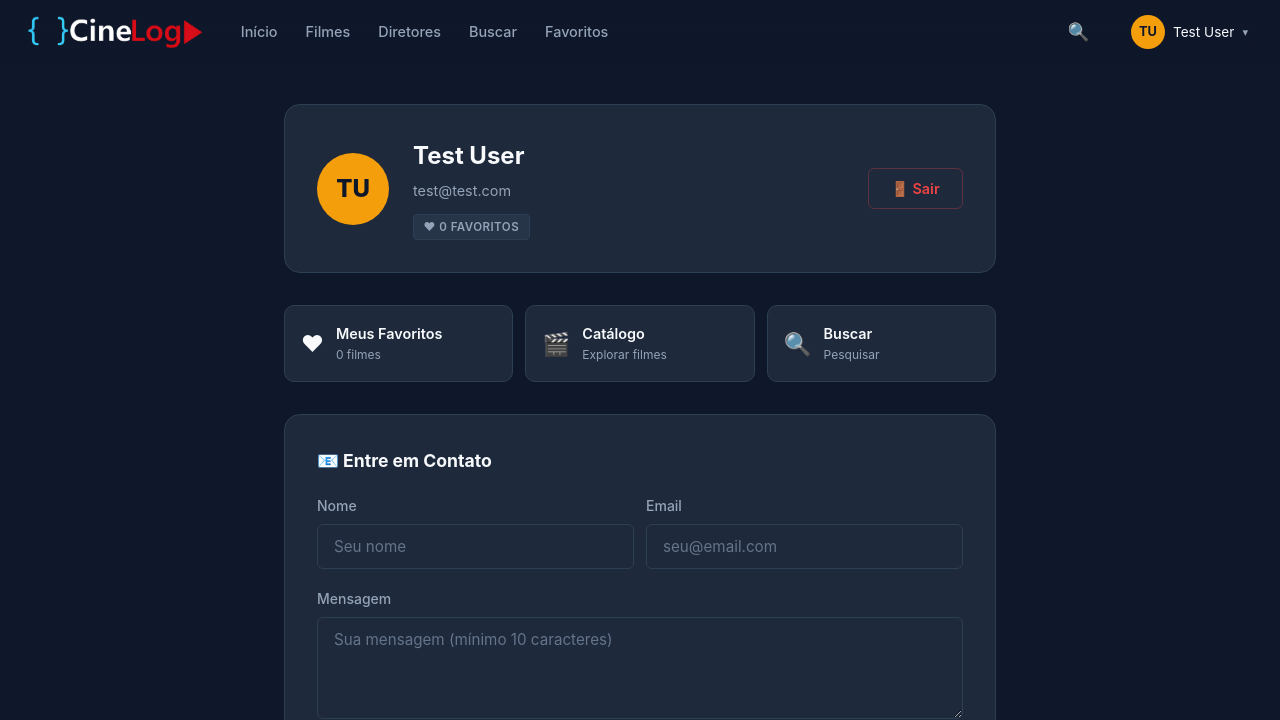
Test: Página de Contato (Perfil) › deve enviar formulário de contato válido
Type "Test User" into the field with placeholder "Seu nome".
click(476, 547); type("Test User")  # box [317,524,634,569]
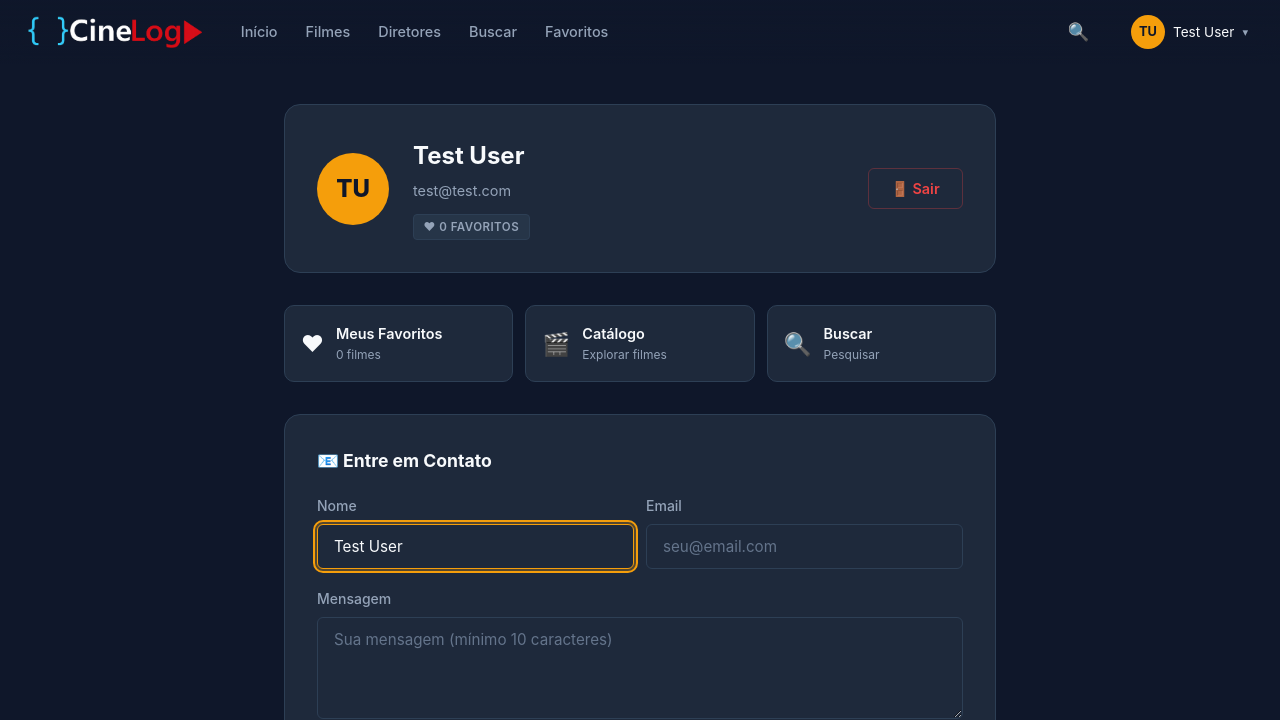
Type "test@email.com" into the field with placeholder "seu@email.com".
click(805, 547); type("test@email.com")  # box [646,524,963,569]
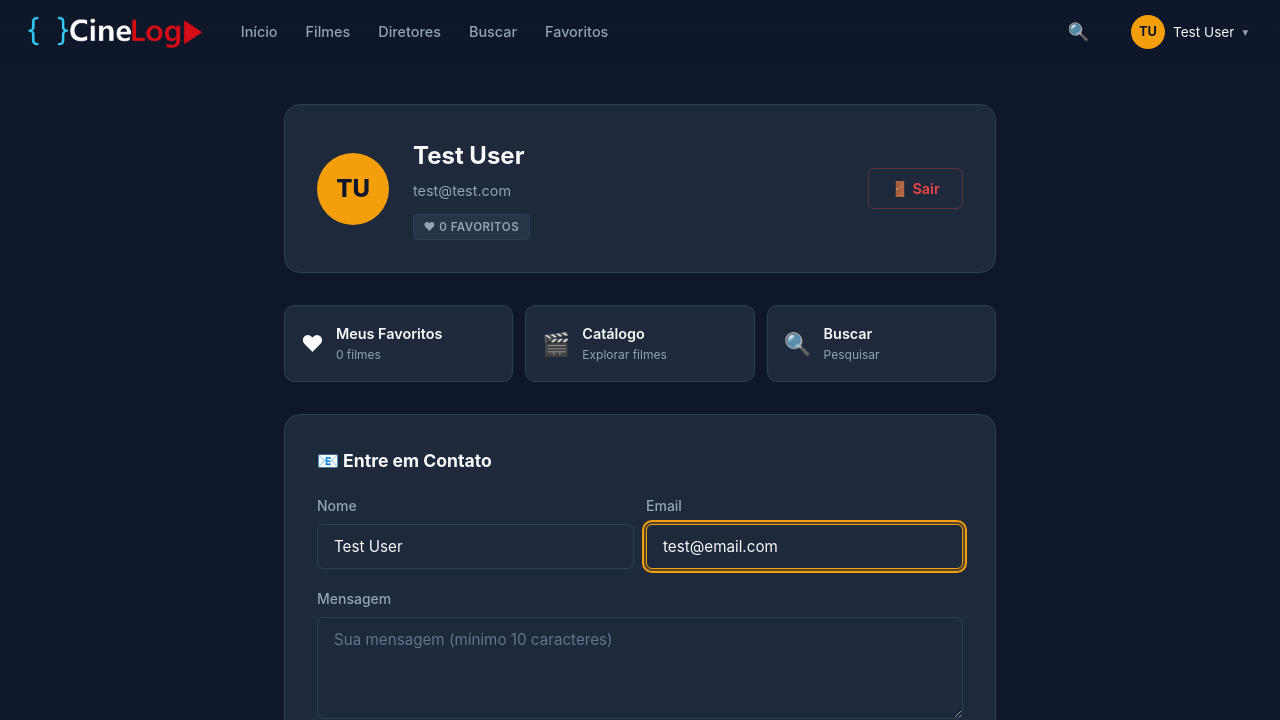
Type "Mensagem de teste E2E" into the text box with placeholder "Sua mensagem (mínimo 10 caracteres)".
click(640, 668); type("Mensagem de teste E2E")  # box [317,617,963,719]
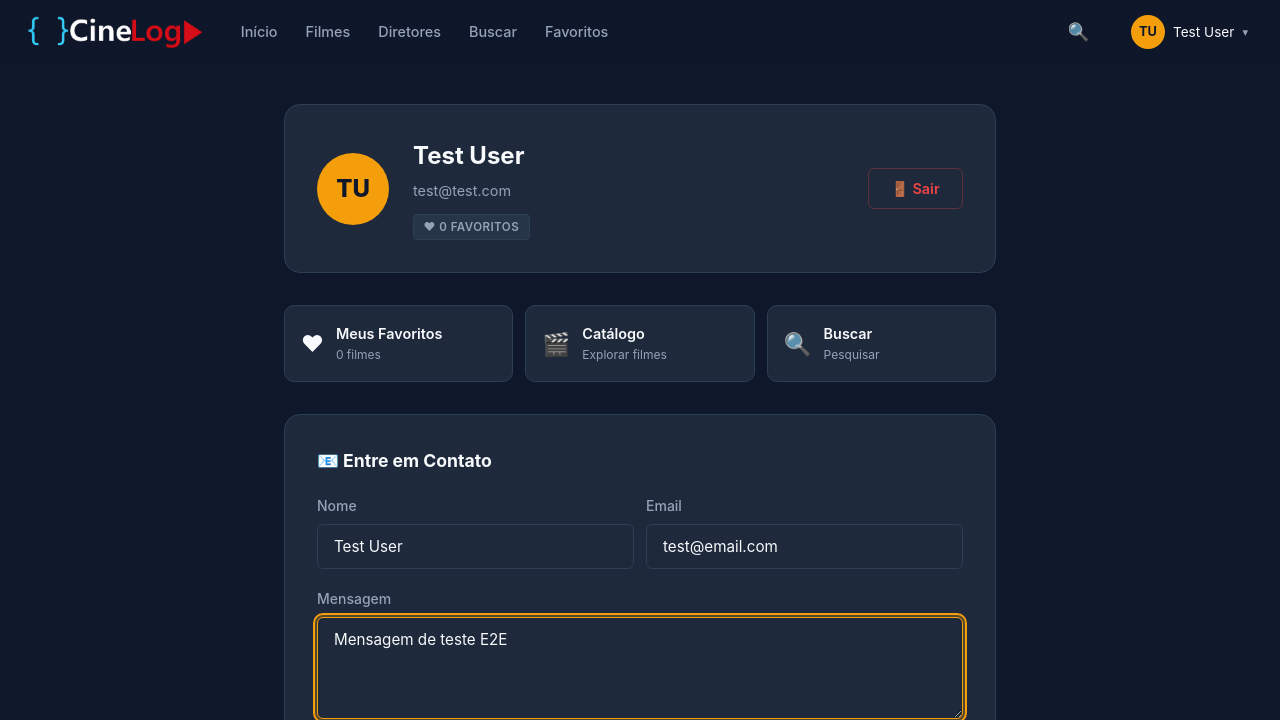
Scroll
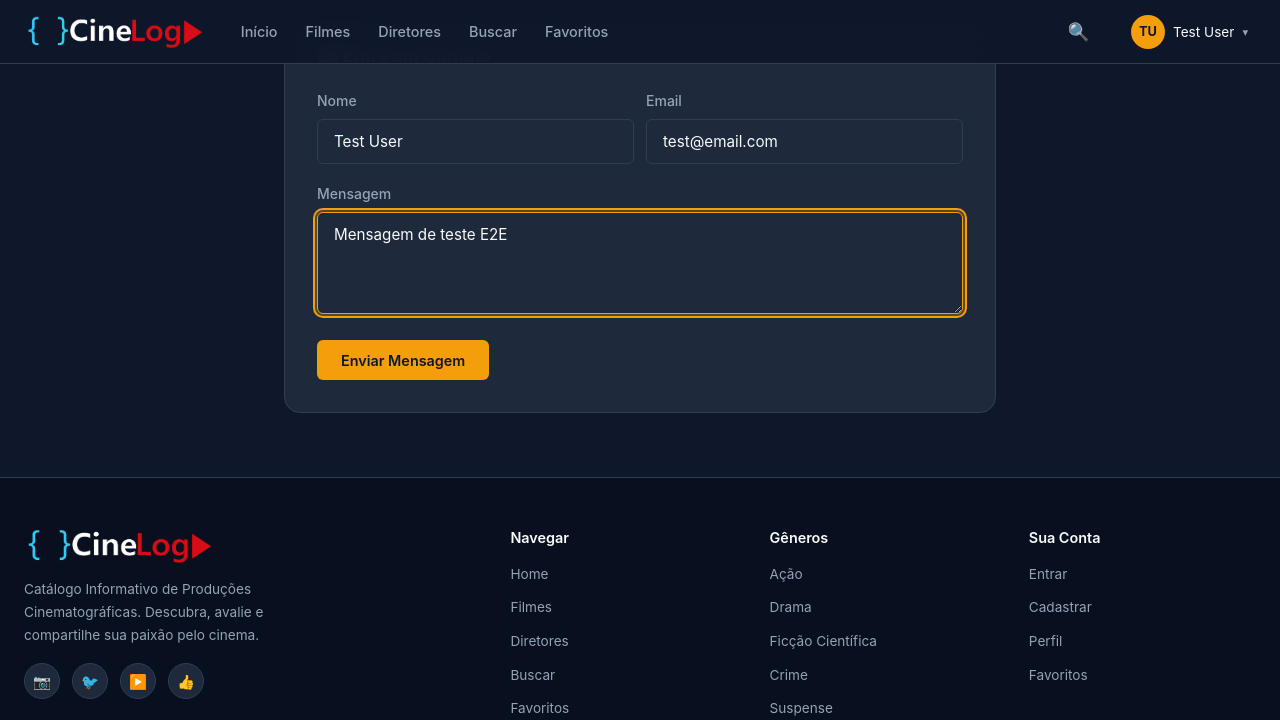
Click the submit button.
click(403, 360)  # box [317,340,489,379]
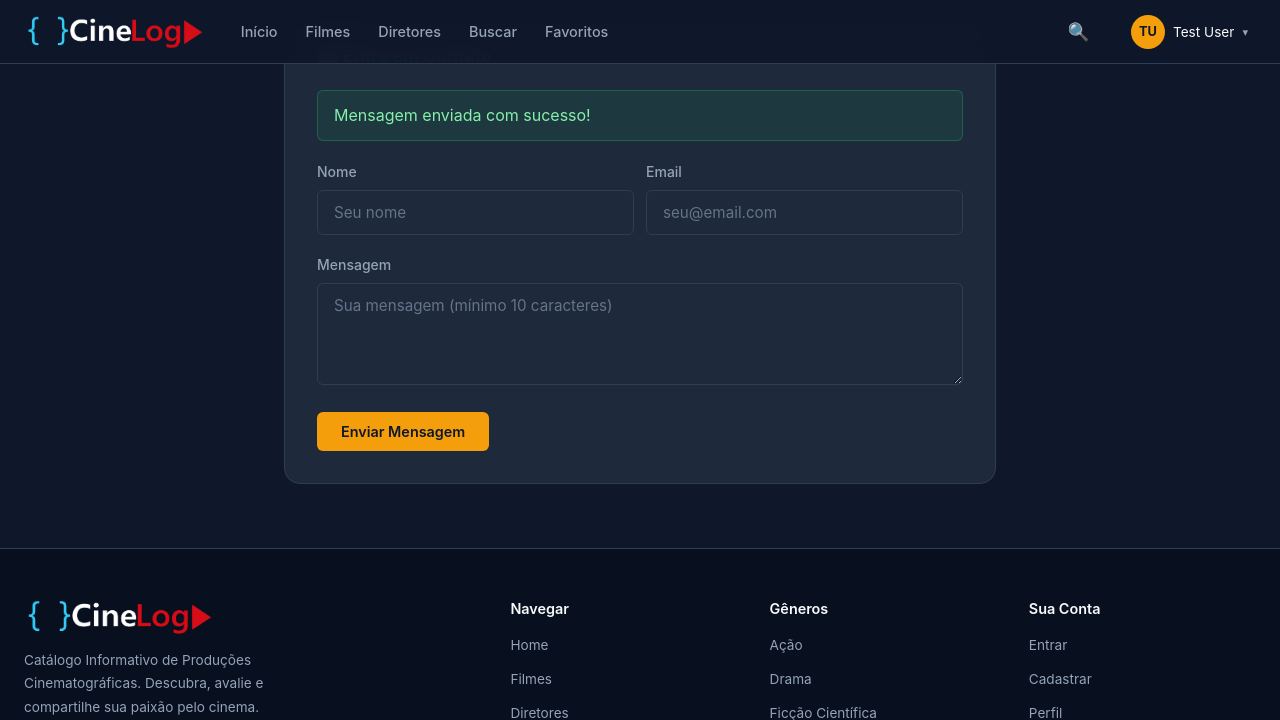
Check: the text "sucesso" is shown, box [334,105,591,125]
